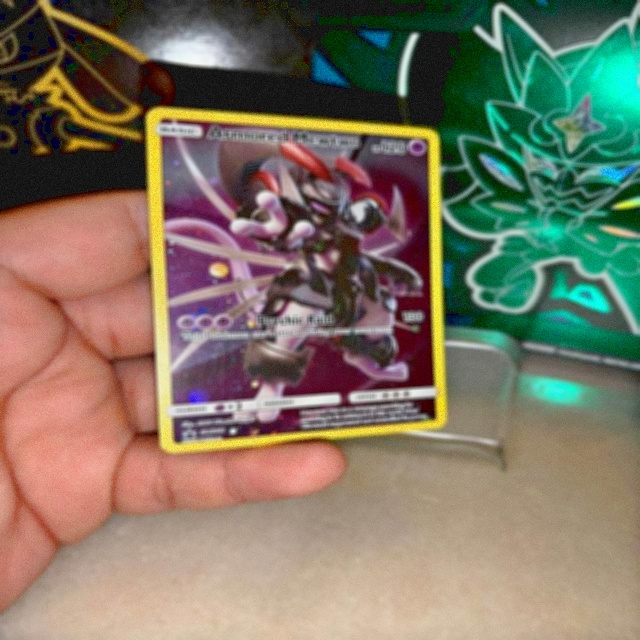card: (145, 106, 448, 455)
